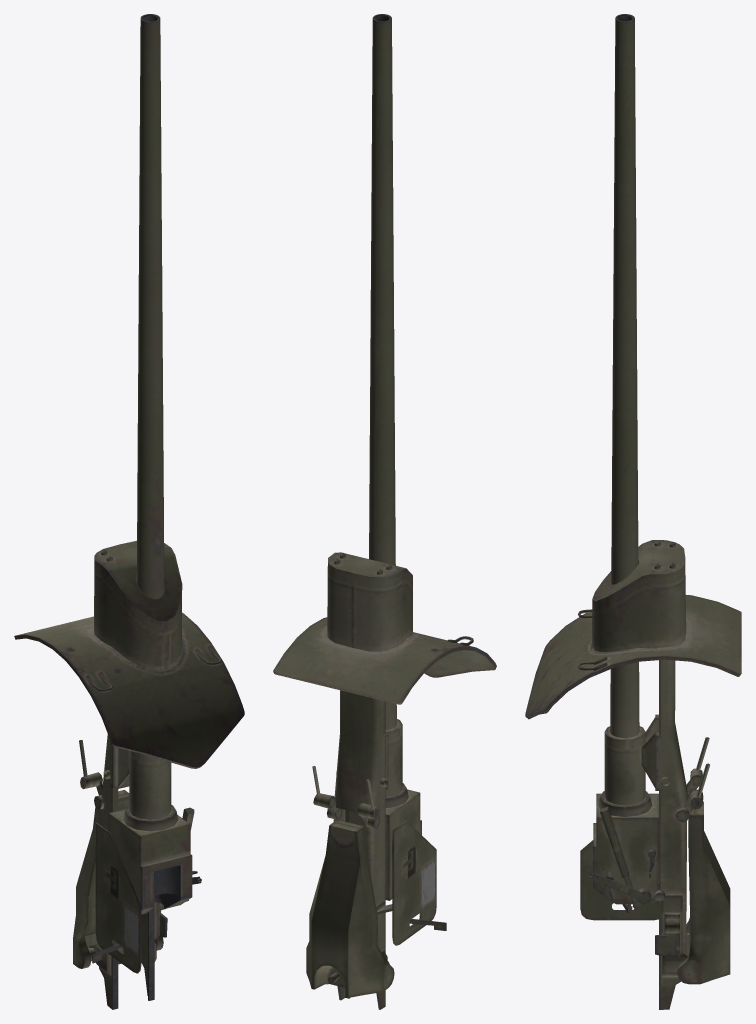
Rendered from Gun_01.glb.
The picture shows the model from 3 angles, left to right: view 1: azimuth 30°, elevation 25°; view 2: azimuth 150°, elevation 25°; view 3: azimuth 270°, elevation 25°; orthographic projection. The views are drawn at different scales.
Visible parts, largest first — view 1: set_0_group_0; view 2: set_0_group_0; view 3: set_0_group_0.
Boxes of the visible parts, bbox=[...] form: set_0_group_0: bbox=[14, 14, 244, 1009]; set_0_group_0: bbox=[273, 14, 496, 1009]; set_0_group_0: bbox=[525, 14, 741, 1009].
Size of the model in its own units: 0.5839 by 4.24 by 0.8471.
1 material, 1 textured.
